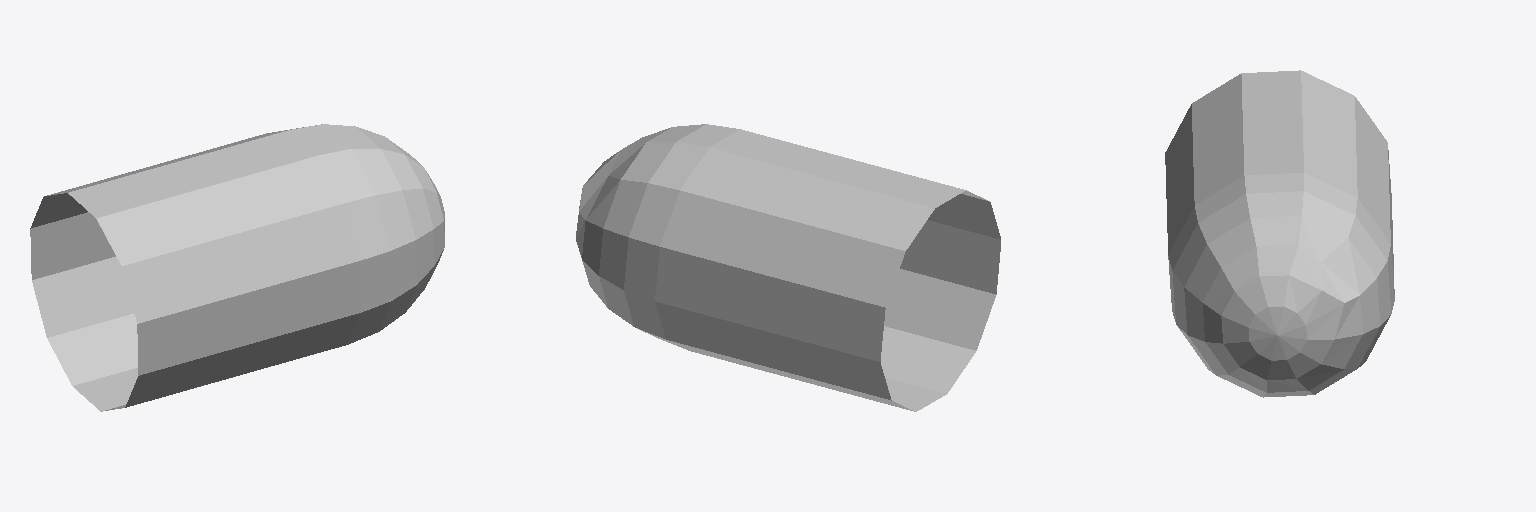
Rendered from lefthand.obj.
The picture shows the model from 3 angles: view 1: azimuth 30°, elevation 25°; view 2: azimuth 150°, elevation 25°; view 3: azimuth 270°, elevation 25°; orthographic projection.
Visible parts, largest first — view 1: polySurface5 polySurface1 AndroidRobot:Mesh; view 2: polySurface5 polySurface1 AndroidRobot:Mesh; view 3: polySurface5 polySurface1 AndroidRobot:Mesh.
Boxes of the visible parts, <box> form: polySurface5 polySurface1 AndroidRobot:Mesh: <box>30,124,444,411</box>; polySurface5 polySurface1 AndroidRobot:Mesh: <box>576,124,1000,411</box>; polySurface5 polySurface1 AndroidRobot:Mesh: <box>1165,70,1394,397</box>.
Size of the model in its own units: 1.13 by 0.6402 by 0.6278.